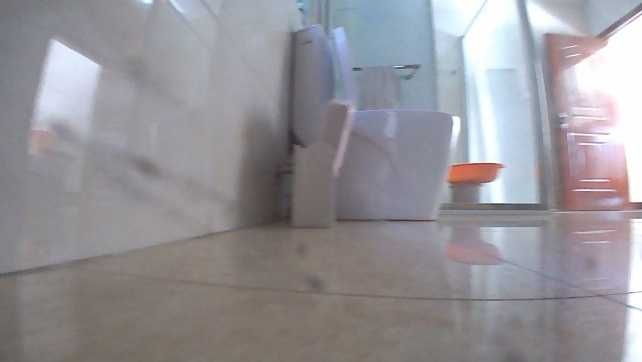toilet: (285, 20, 462, 222)
